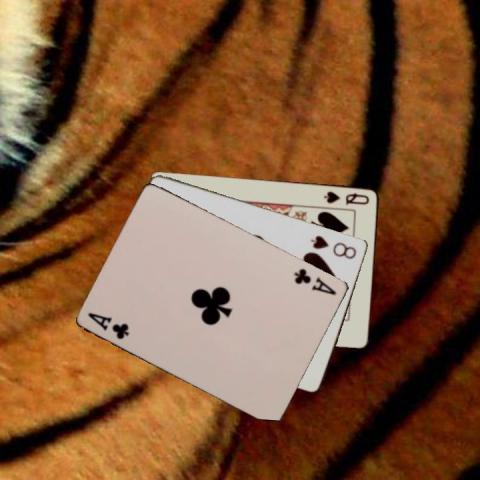8s: (308, 232, 359, 261)
Ac: (291, 265, 338, 297), (86, 309, 132, 341)
Qs: (322, 188, 372, 206)
